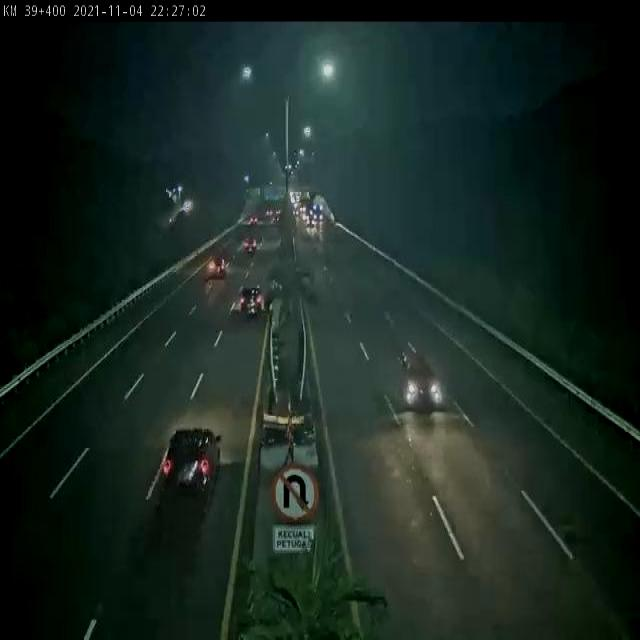Car: (156, 421, 239, 526), (390, 342, 454, 418), (231, 277, 283, 330), (200, 245, 238, 288), (228, 226, 268, 264)
